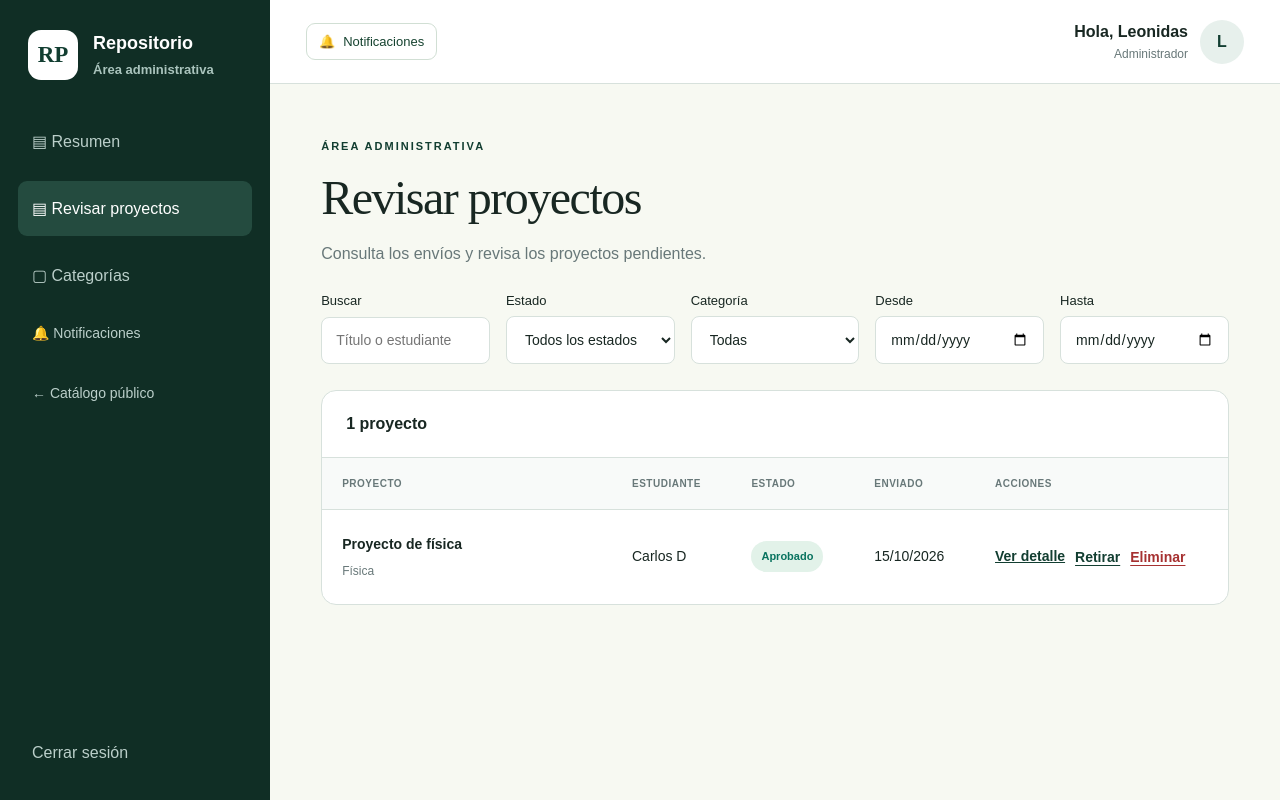
Test case: Migración de pantallas y permisos › no elimina si el título de confirmación no coincide
The image size is (1280, 800).
Click the button "Eliminar" at x=1158, y=557, box [1130,549,1186,565]
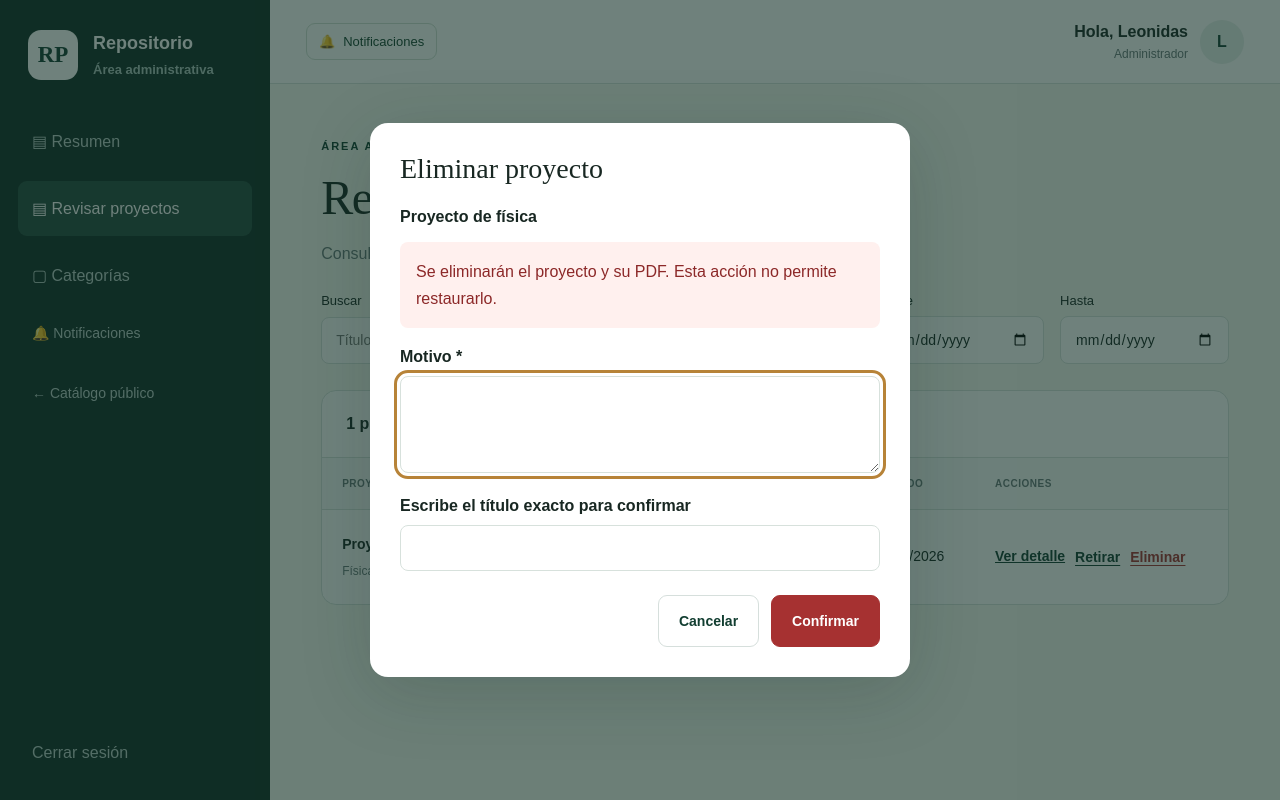
Type "Documento duplicado" into the text box labelled "Motivo *" at x=640, y=425, box [400,376,880,473]
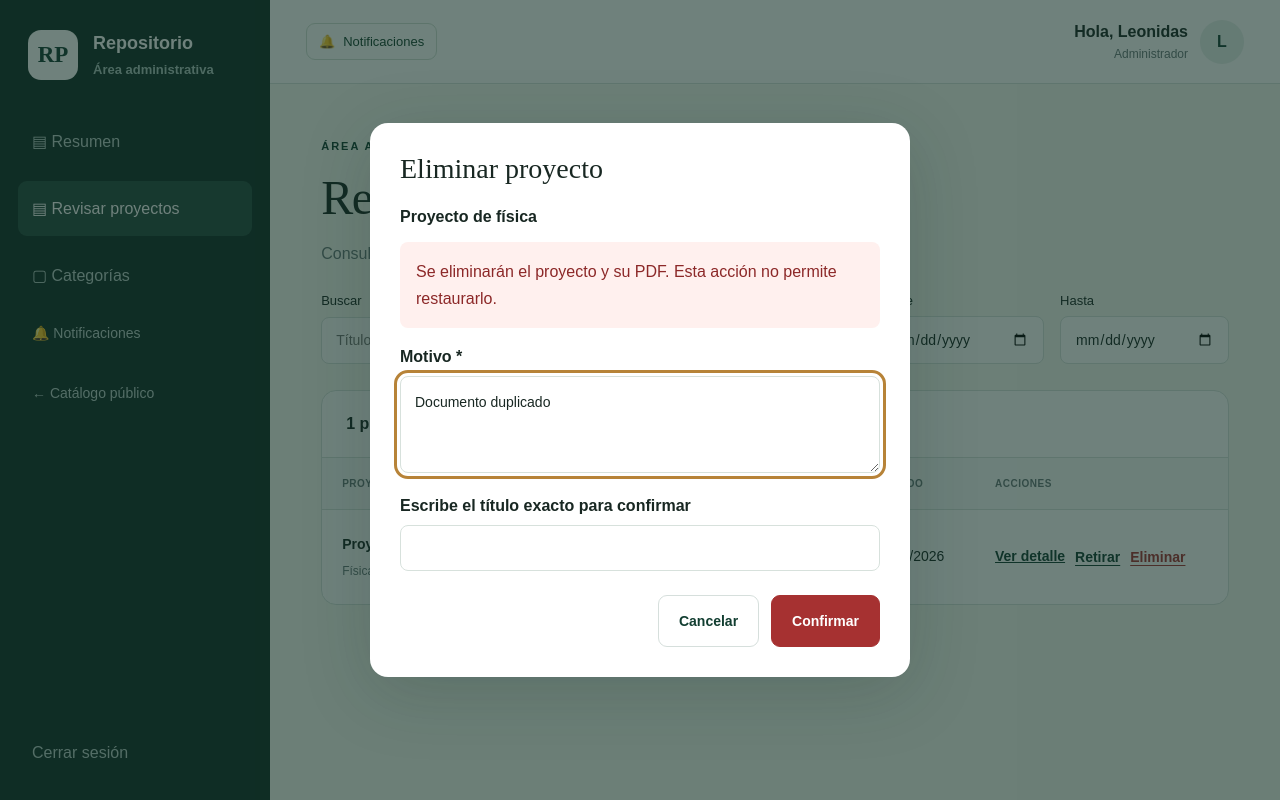
Type "distinto" into the field labelled "Escribe el título exacto para confirmar" at x=640, y=548, box [400,525,880,571]
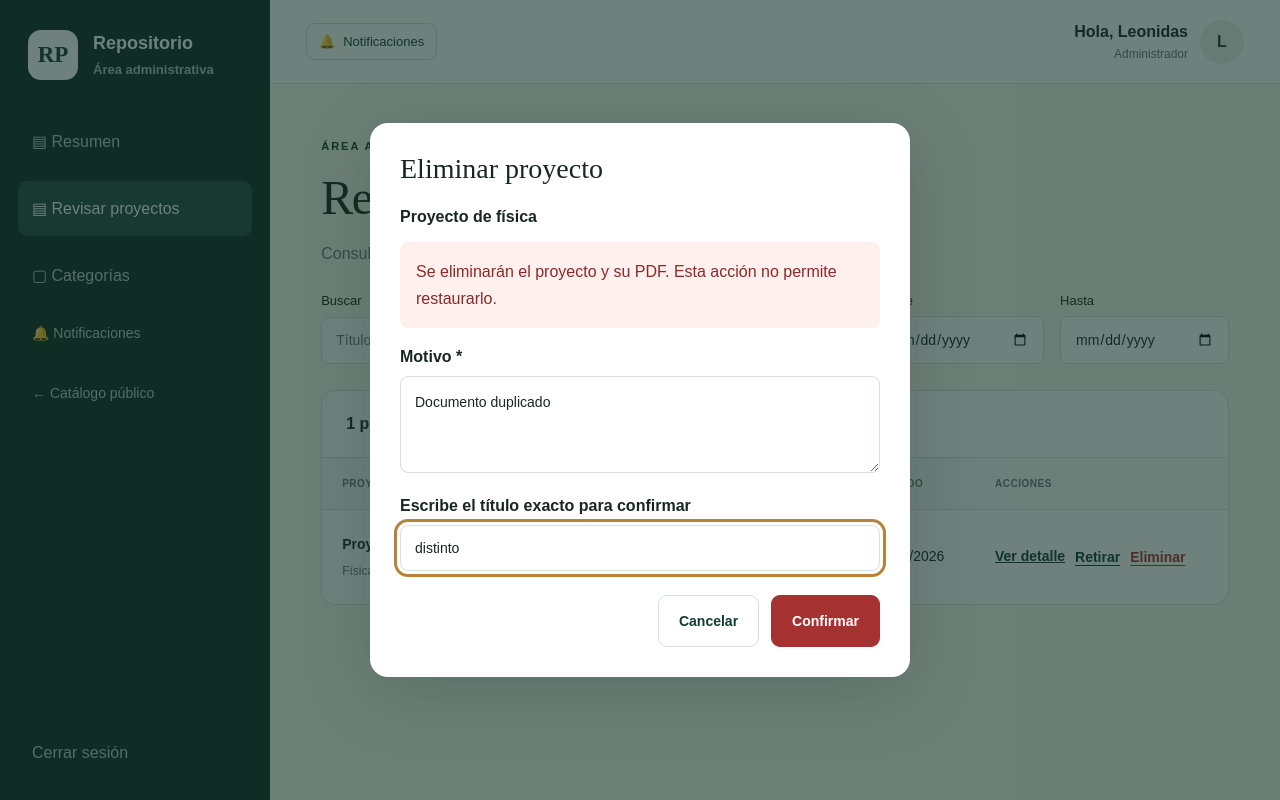
Click the button "Confirmar" at x=826, y=621, box [771,595,880,647]
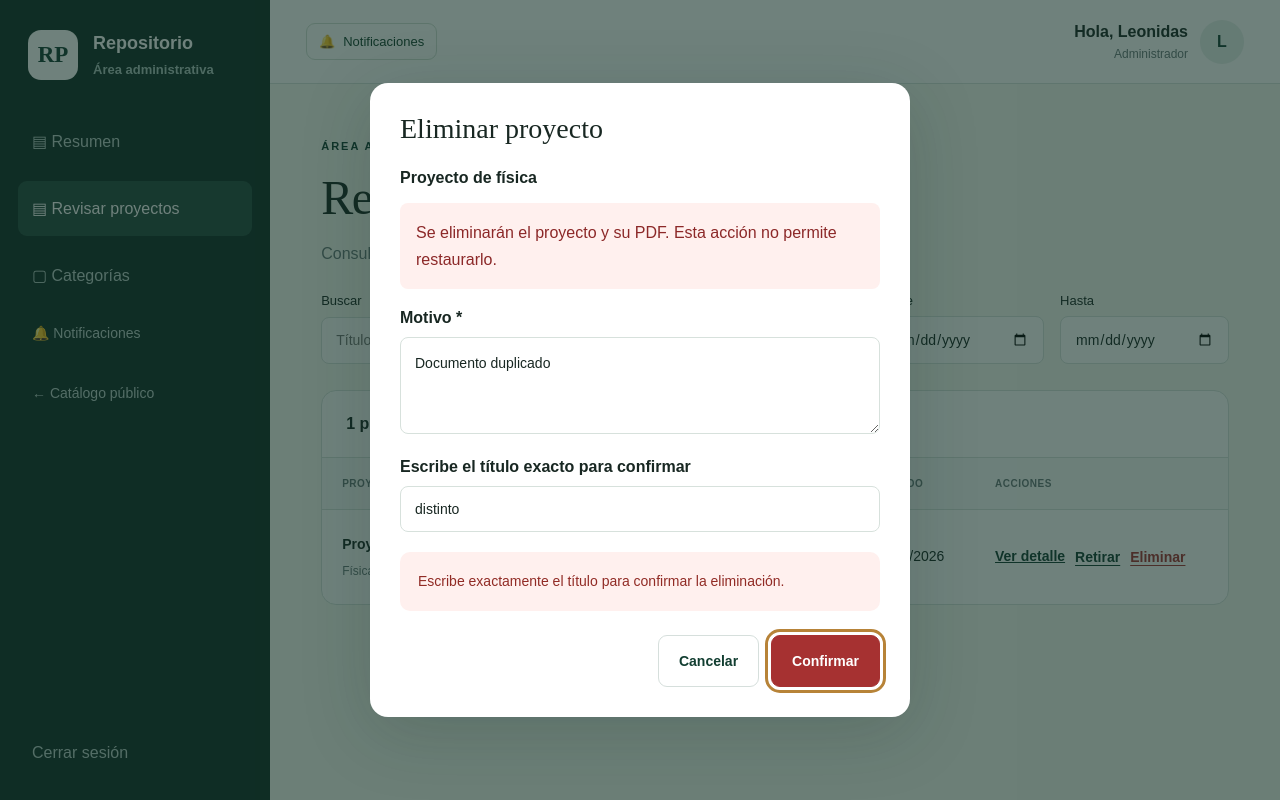
Expected: the text "Escribe exactamente el título para confirmar la eliminación." is shown, [400,552,880,611]
